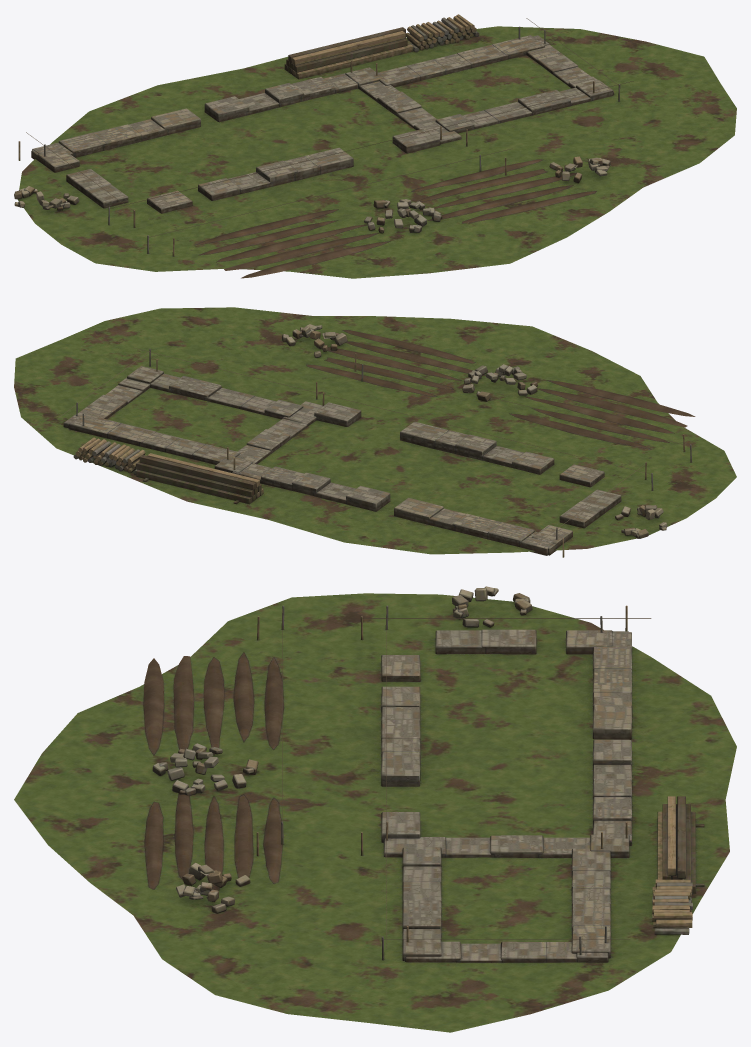
The model's file is temple_build1.glb.
3 views of the same model, one above another, from view 1: azimuth 30°, elevation 25°; view 2: azimuth 150°, elevation 25°; view 3: azimuth 270°, elevation 25° (orthographic). The views are drawn at different scales.
Visible parts, largest first — view 1: temple_build1_LOD0; view 2: temple_build1_LOD0; view 3: temple_build1_LOD0.
Boxes of the visible parts, x1,y1,x2,y2 form: temple_build1_LOD0: (14,14,736,278); temple_build1_LOD0: (14,307,736,557); temple_build1_LOD0: (14,586,736,1032).
Size of what is drawn, in the model's own units: 29.47 by 0.851 by 20.5.
Materials: 1 (1 with a texture image).
